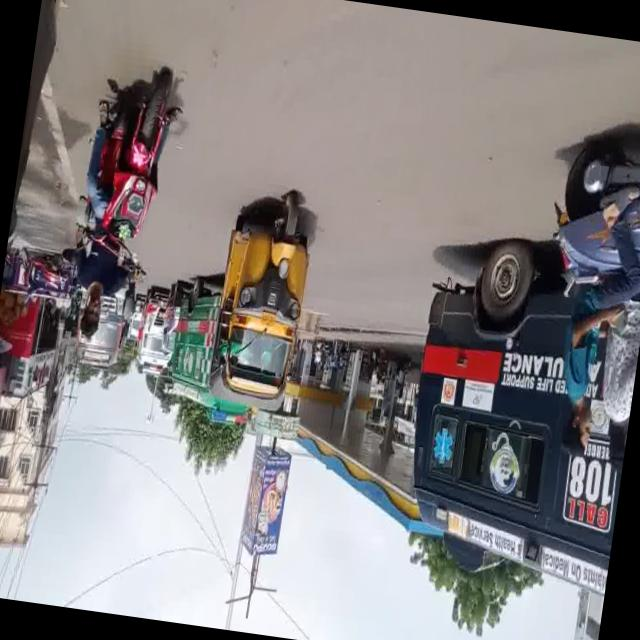ambulance: (415, 261, 622, 591), (173, 294, 244, 431), (72, 286, 129, 386), (129, 295, 167, 374)
